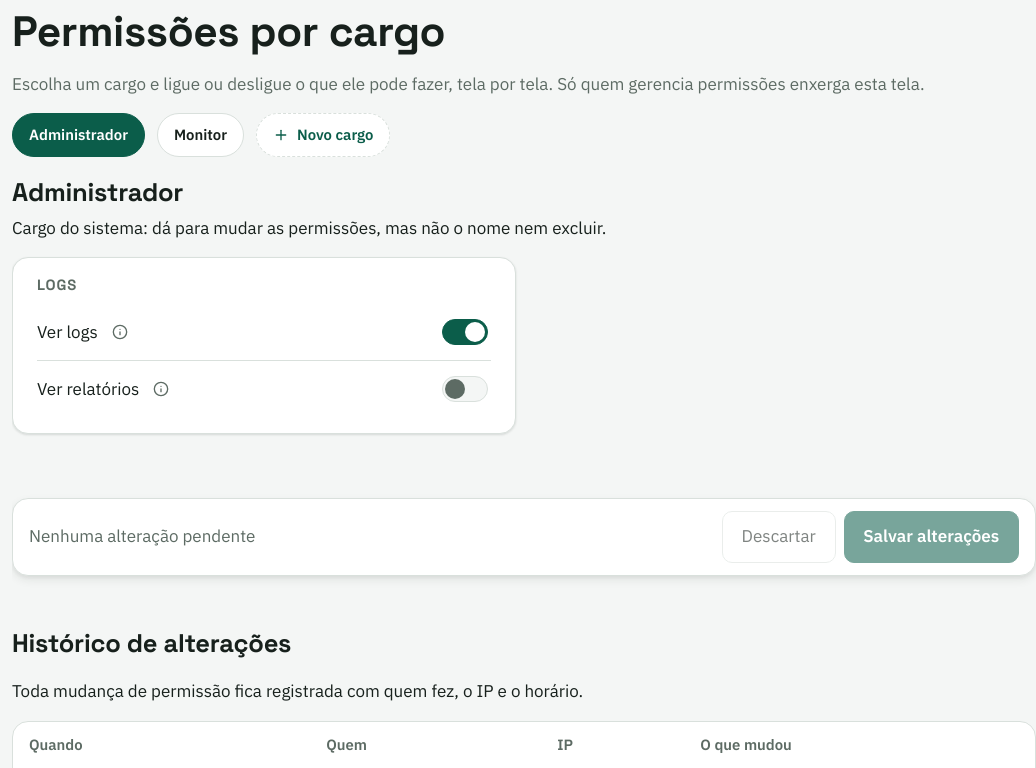
it: PermissionsPage - edição e salvamento › conta as alterações pendentes e permite descartar
The image size is (1036, 768).
Expected: the tab "Administrador" is shown, [12,113,145,157]
Click the checkbox labelled "Ver relatórios".
click(465, 389)  # box [442,376,488,402]
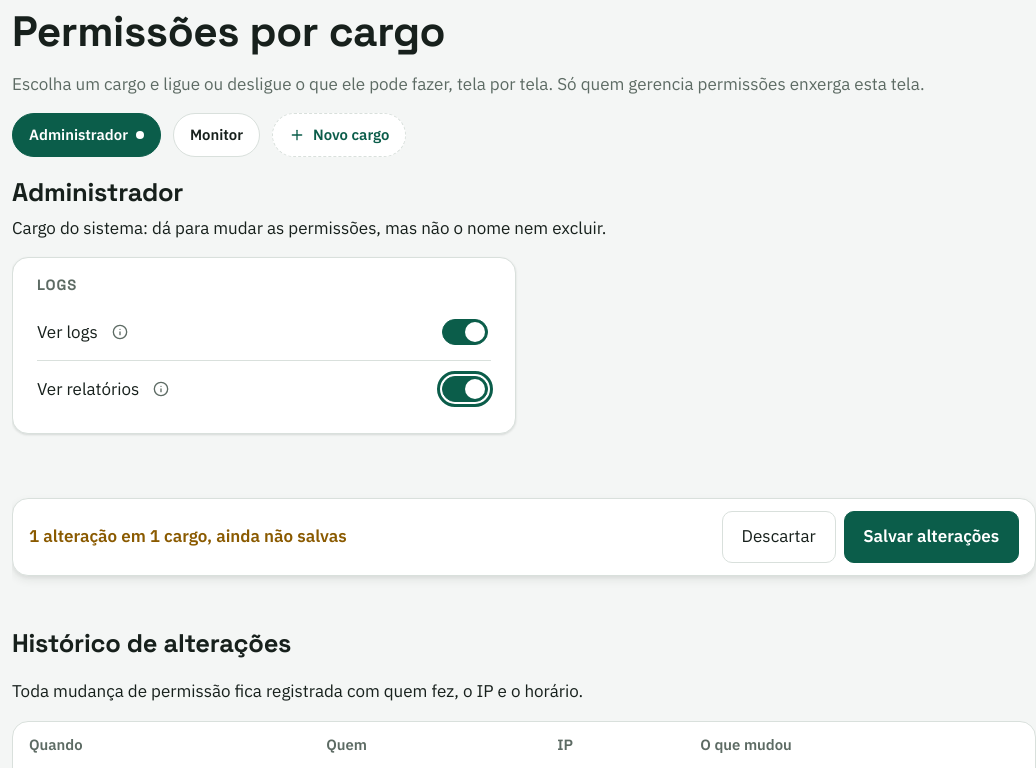
Expected: the text "1 alteração em 1 cargo, ainda não salvas" is shown, [29,524,347,550]
Click the checkbox labelled "Ver logs".
click(465, 332)  # box [442,319,488,345]
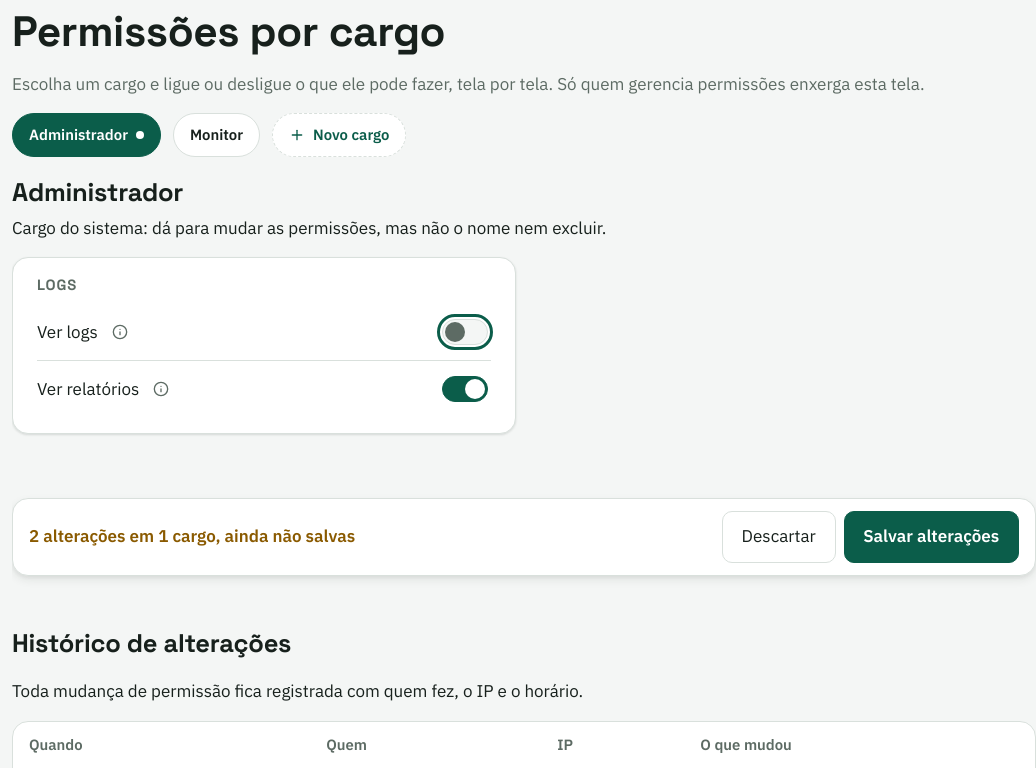
Expected: the text "2 alterações em 1 cargo, ainda não salvas" is shown, [29,524,355,550]
Click the button "Descartar".
click(779, 537)  # box [722,511,836,563]
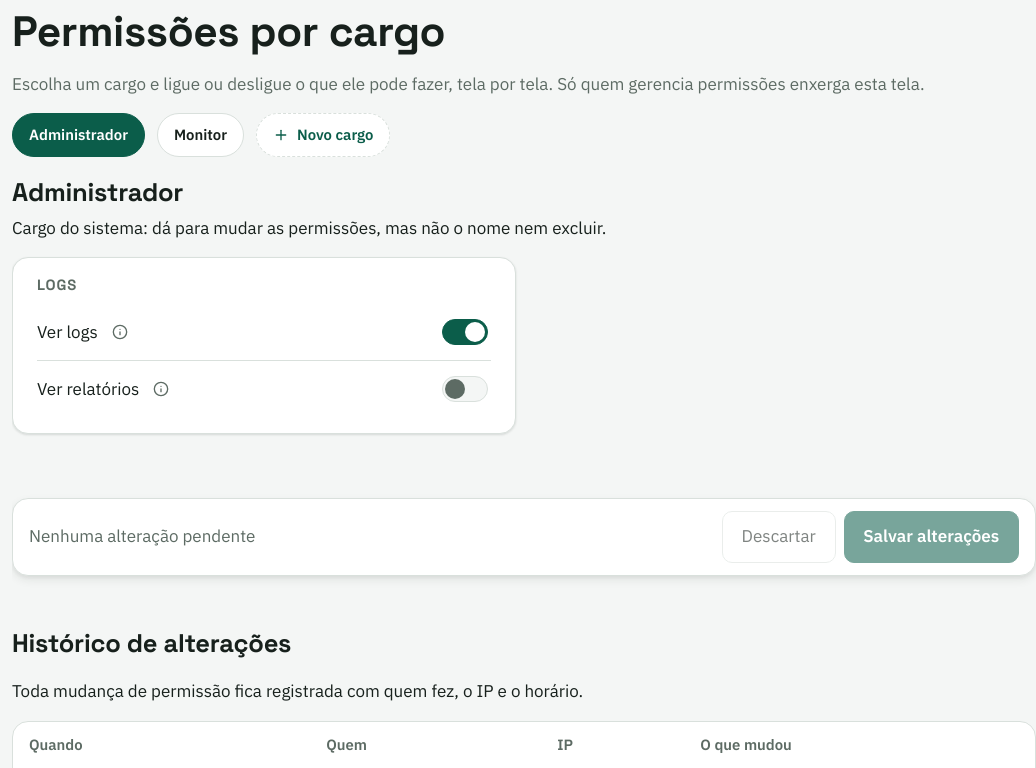
Expected: the checkbox labelled "Ver logs" is checked, [442,319,488,345]
Expected: the text "Nenhuma alteração pendente" is shown, [29,524,256,550]
Expected: the button "Salvar alterações" is disabled, [844,511,1019,563]
